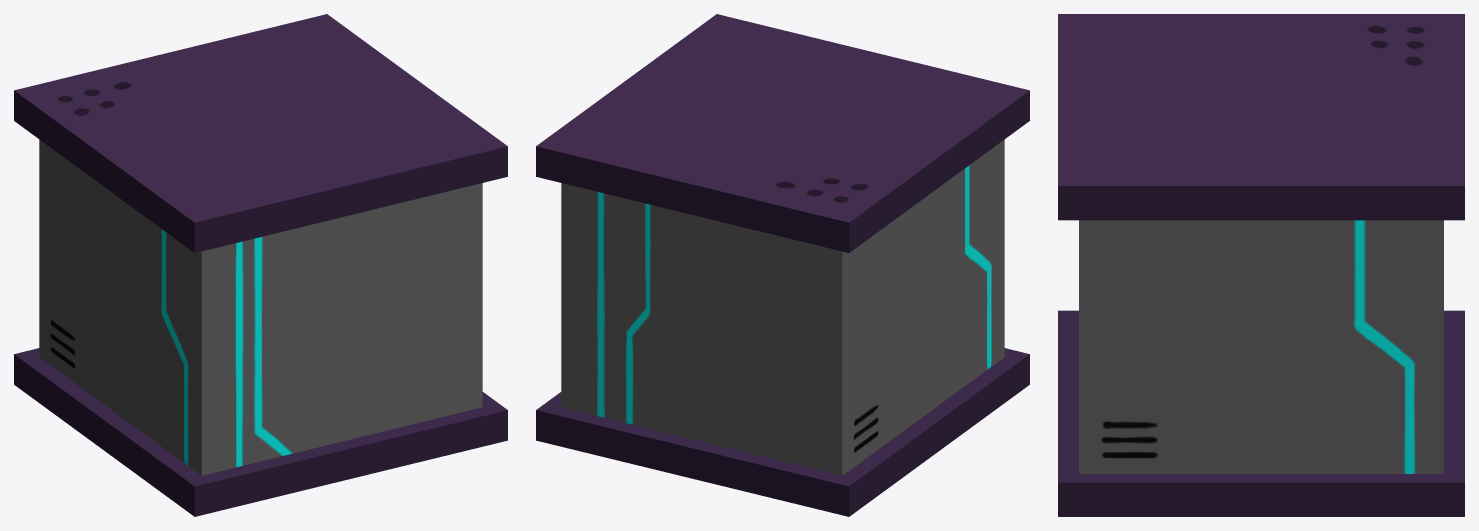
Rendered from prop.box1.fbx.
3 views of the same model, side by side, from view 1: azimuth 30°, elevation 25°; view 2: azimuth 150°, elevation 25°; view 3: azimuth 270°, elevation 25° (orthographic). The views are drawn at different scales.
Visible parts, largest first — view 1: Cube.001; view 2: Cube.001; view 3: Cube.001.
Boxes of the visible parts, x1,y1,x2,y2 form: Cube.001: (14,14,507,516); Cube.001: (536,14,1029,516); Cube.001: (1058,14,1464,516).
Size of the model in its own units: 223 by 200 by 223.
